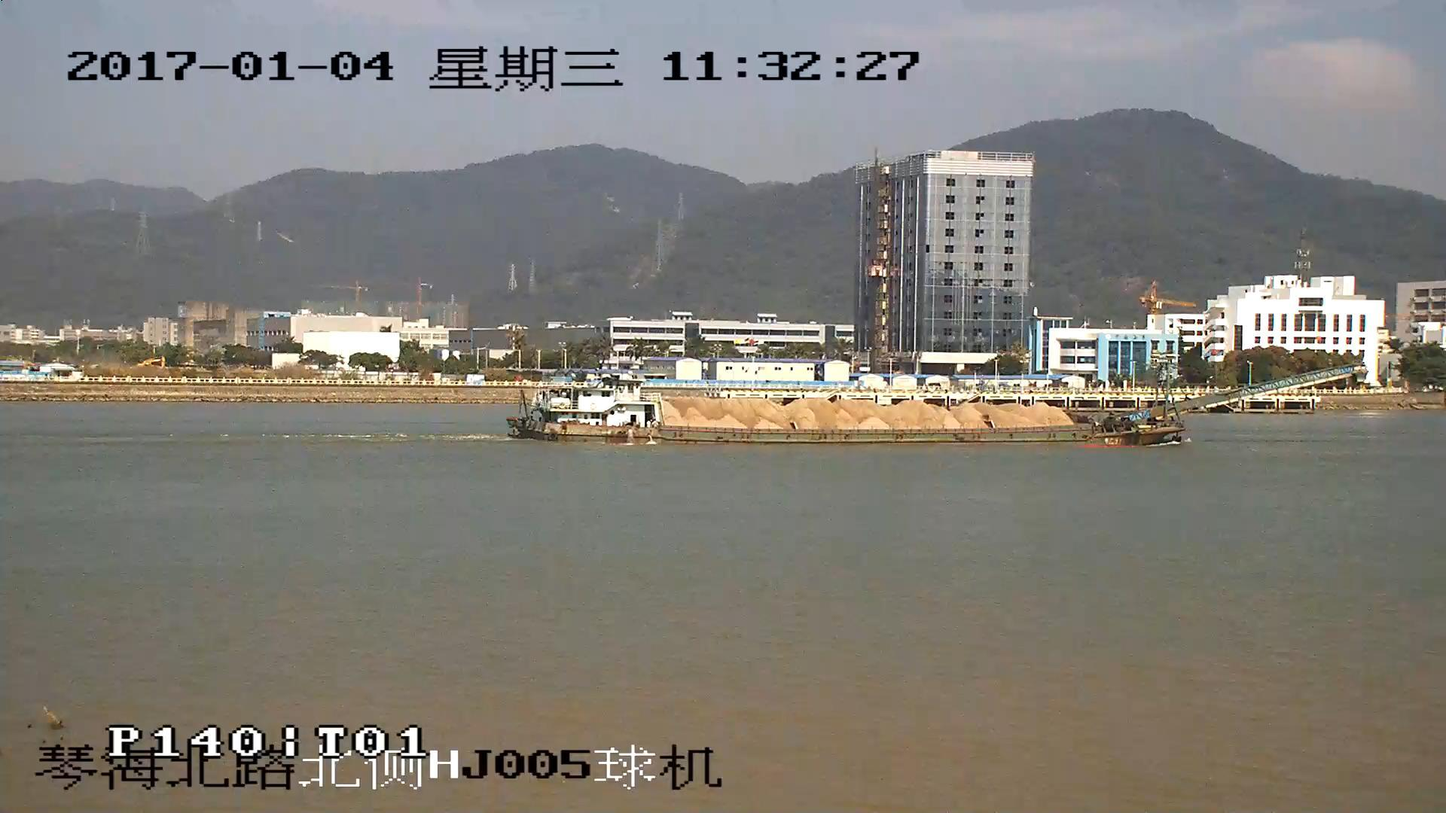ore carrier: (510, 363, 1361, 443)
